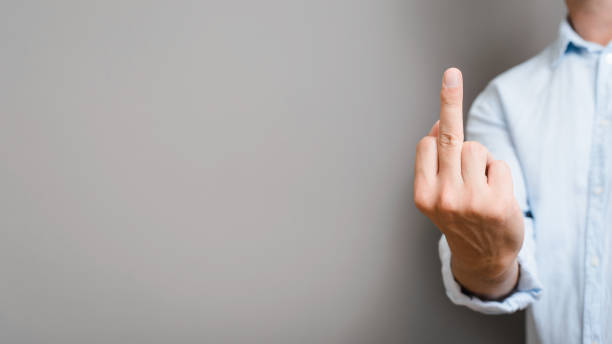insulting_gesture: (413, 62, 526, 298)
